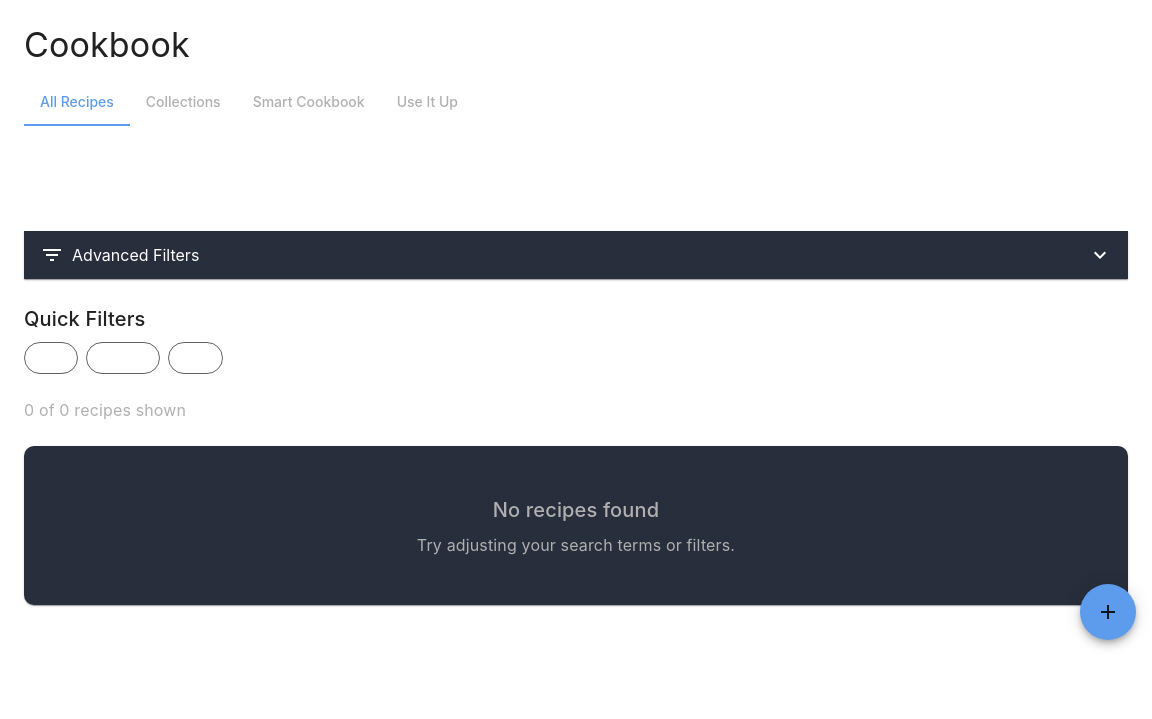
Test case: Cookbook page › Use It Up tab › refreshes results every time the tab is opened
This screenshot has width=1152, height=719.
Click the tab with test id "cookbook-tab-use-it-up": (427, 102) [381, 78, 474, 126]
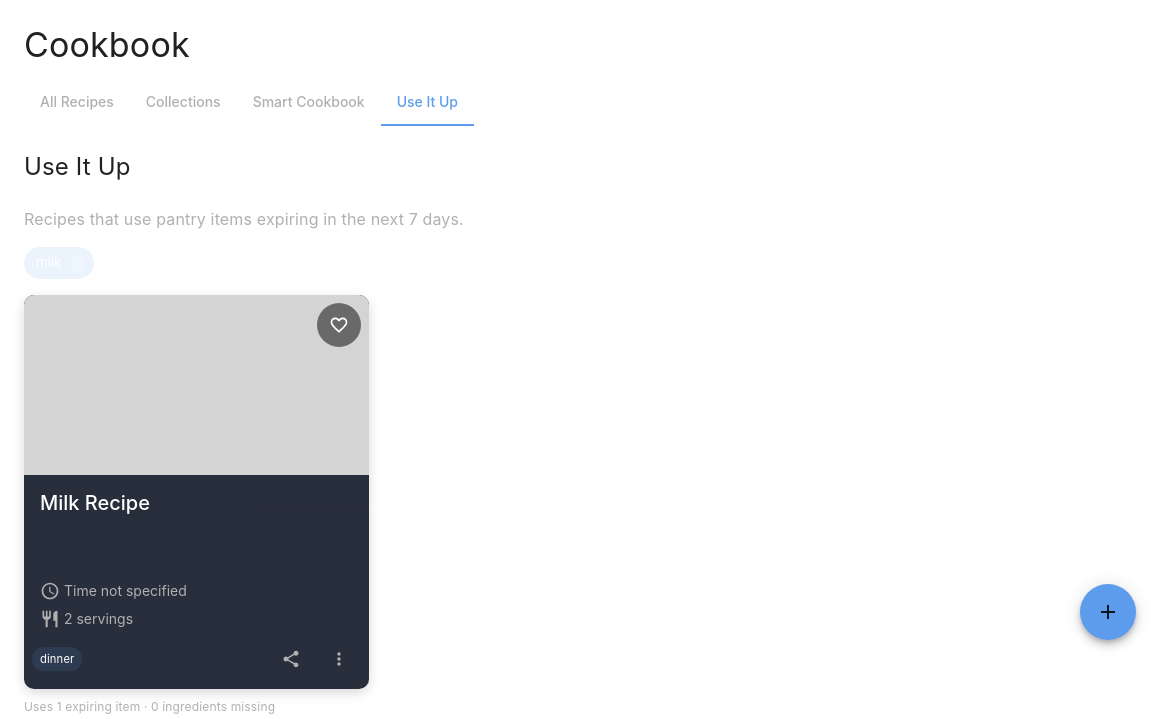
Now the text "Milk Recipe" is shown, box [40, 491, 150, 515]
Click the tab with test id "cookbook-tab-all-recipes": (77, 102) [24, 78, 130, 126]
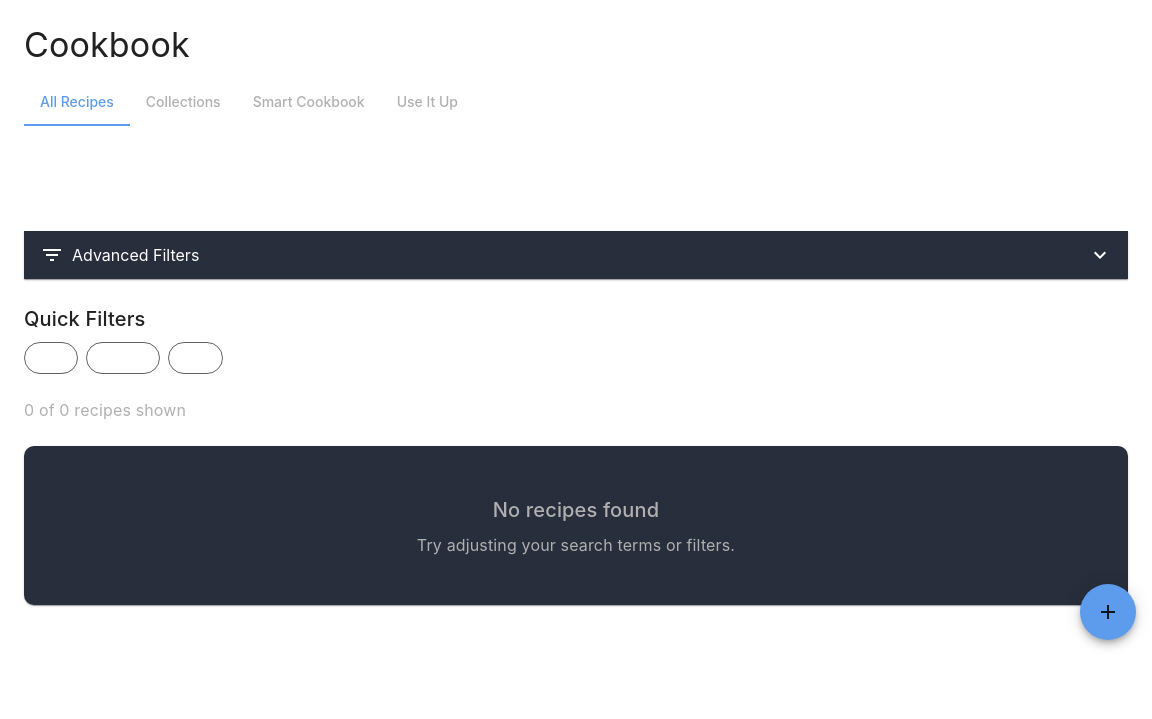
Click the tab with test id "cookbook-tab-use-it-up": (427, 102) [381, 78, 474, 126]
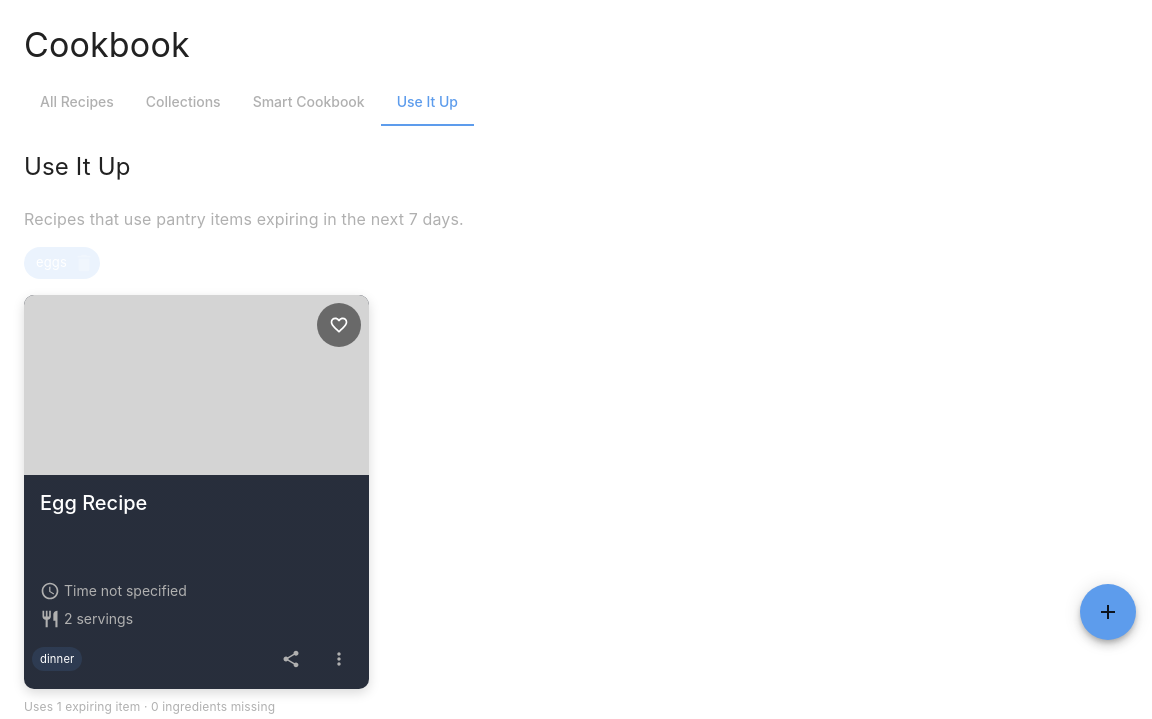
Expected: the button "Milk Recipe" is not shown
Now the text "Egg Recipe" is shown, box [40, 491, 147, 515]
